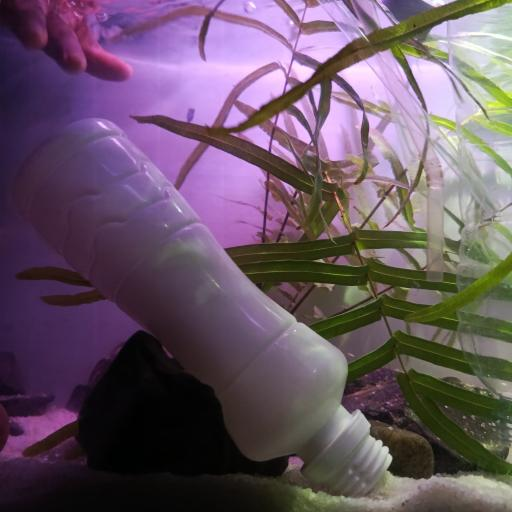plastic_bottle: (5, 115, 398, 496), (448, 0, 511, 446)
plastic_straw: (308, 0, 454, 279)
